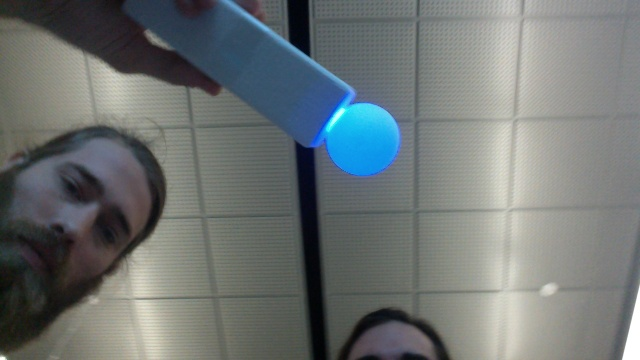wand: (329, 104, 400, 177)
